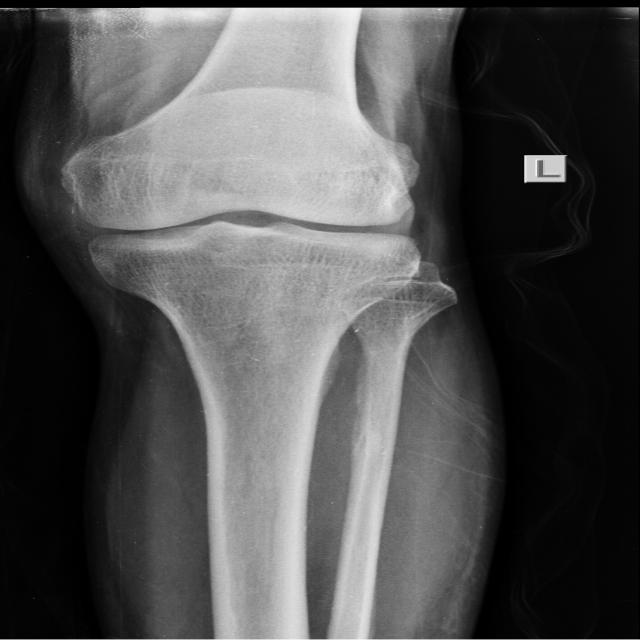normal: (62, 143, 430, 271)
